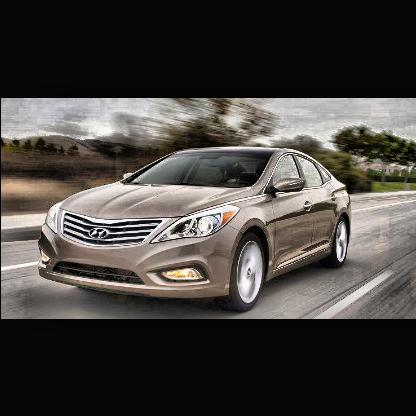Hyundai Azera Sedan 2012: (35, 144, 356, 310)
